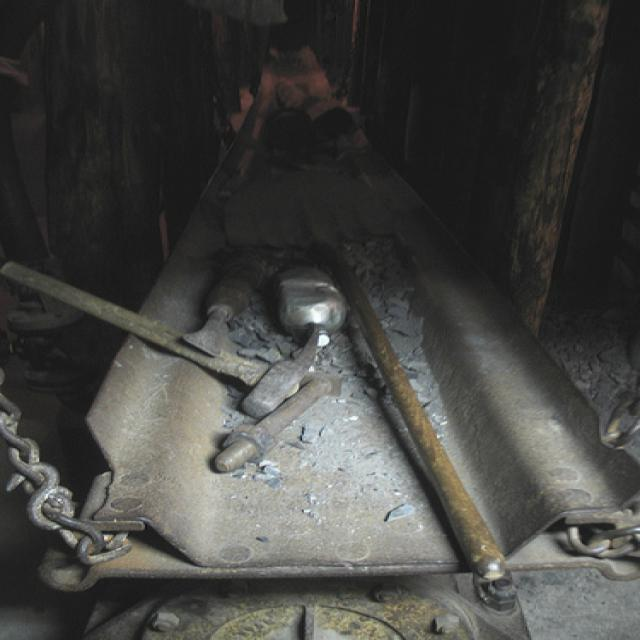hammer: (0, 239, 322, 422)
